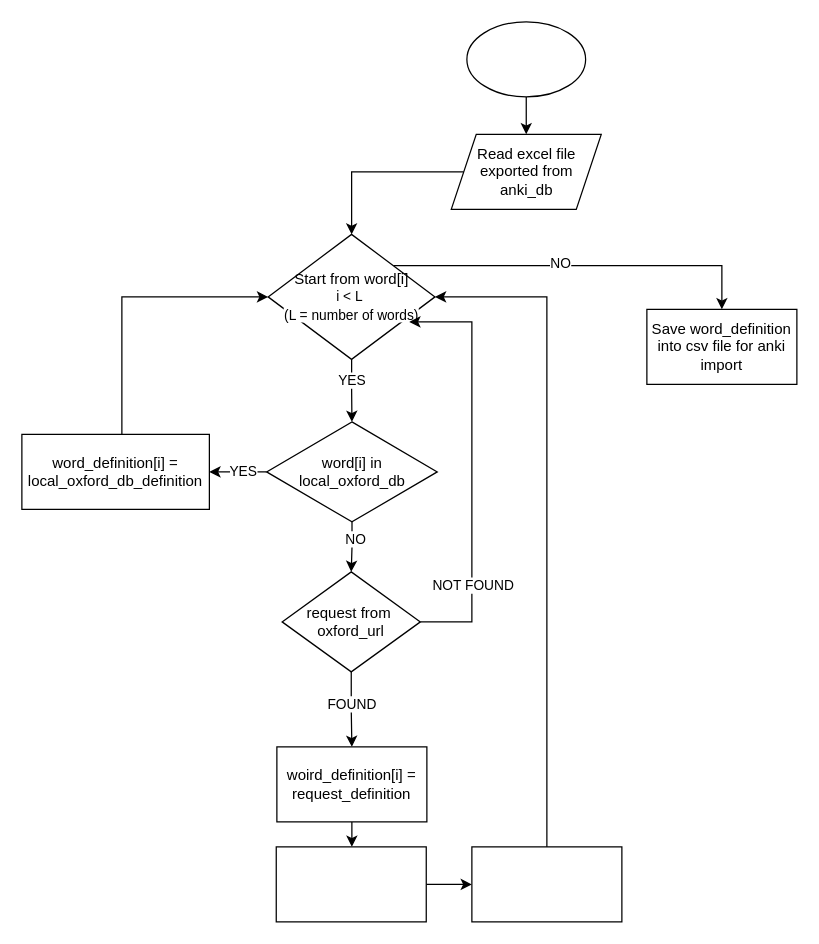
Some shapes in this 819 by 944 pixel diagram are drawn without their labels. Each missing label, with the centre of its shape:
"Add new word with definition into local_oxford_db" goes at pixel 350 884.
"Begin" goes at pixel 526 59.
"Sleep from 0 - 1 second" goes at pixel 546 884.
